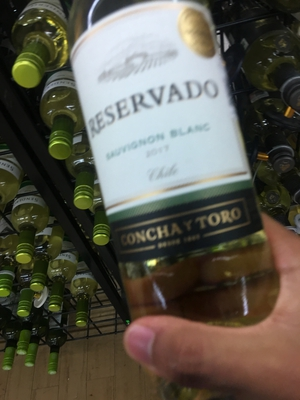reservado sauvignon blanc: (64, 7, 292, 316)
